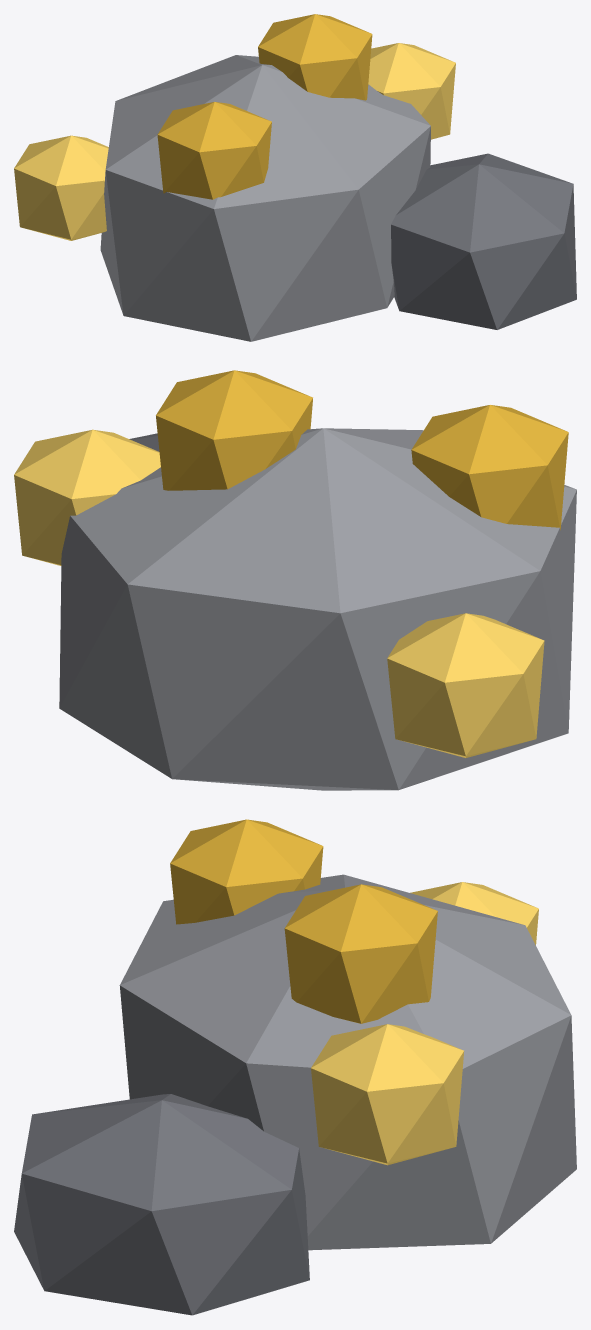
The model's file is drop_ore_gold.glb.
3 renders of one model, top to bottom at view 1: azimuth 30°, elevation 25°; view 2: azimuth 150°, elevation 25°; view 3: azimuth 270°, elevation 25°, orthographic. The views are drawn at different scales.
Parts seen in each view (by area): view 1: drop_ore_gold; view 2: drop_ore_gold; view 3: drop_ore_gold.
Part boxes in pixels (bbox=[...]): drop_ore_gold: bbox=[14, 14, 576, 341]; drop_ore_gold: bbox=[14, 370, 576, 790]; drop_ore_gold: bbox=[14, 819, 576, 1315].
Size of the model in its own units: 0.2956 by 0.1908 by 0.2457.
